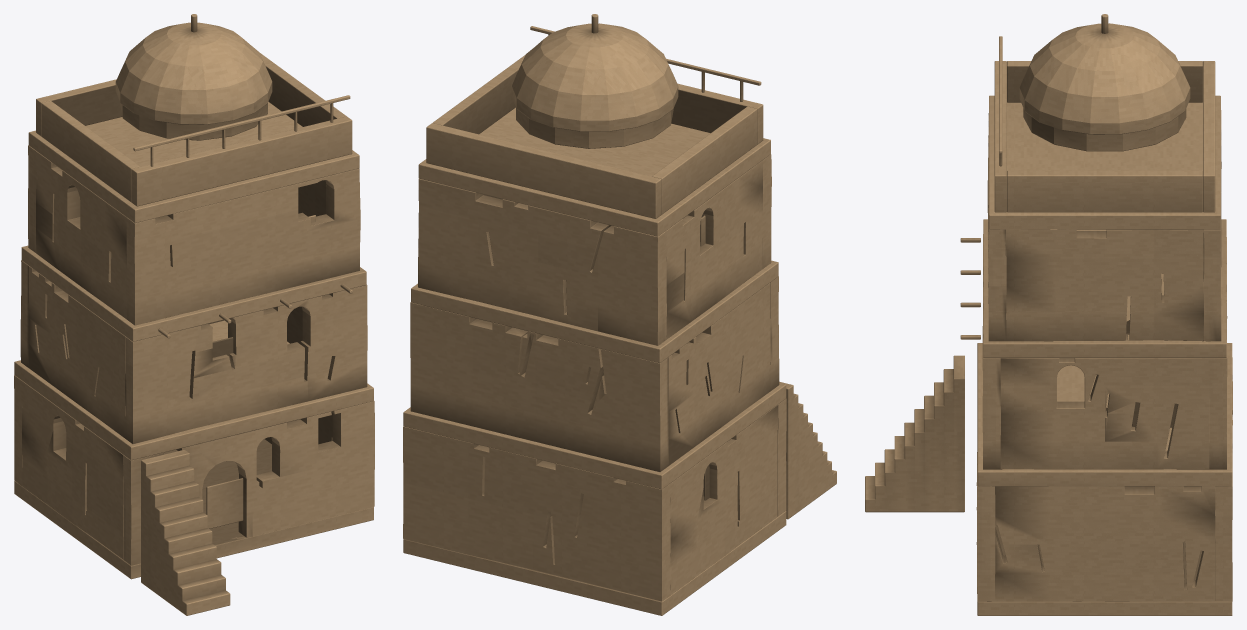
Rendered from tower_23.glb.
3 views of the same model, side by side, from view 1: azimuth 30°, elevation 25°; view 2: azimuth 150°, elevation 25°; view 3: azimuth 270°, elevation 25° (orthographic). The views are drawn at different scales.
Visible parts, largest first — view 1: tower; view 2: tower; view 3: tower.
Part boxes in pixels (x1,y1,x2,y2): tower: [14, 14, 374, 615]; tower: [403, 14, 836, 615]; tower: [865, 14, 1232, 615].
Bounding box in the file's own units: 7.5 × 14.43 × 8.97.
Materials: 1 (1 with a texture image).
